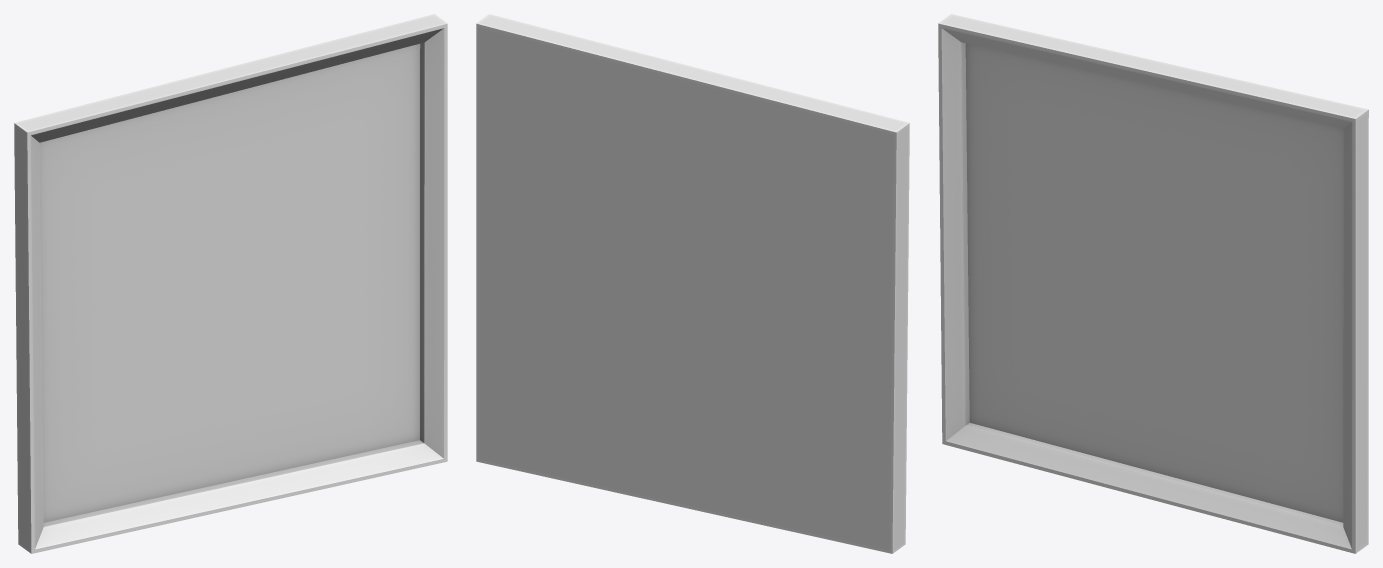
File: WallArtFIX.fbx
3 renders of one model, left to right at view 1: azimuth 30°, elevation 25°; view 2: azimuth 150°, elevation 25°; view 3: azimuth 330°, elevation 25°, orthographic.
Visible parts, largest first — view 1: WallArt; view 2: WallArt; view 3: WallArt.
Boxes of the visible parts, x1=… form: WallArt: x1=14, y1=14, x2=447, y2=553; WallArt: x1=476, y1=14, x2=909, y2=553; WallArt: x1=938, y1=14, x2=1368, y2=553.
Size of the model in its own units: 99.18 by 98.7 by 5.37.
